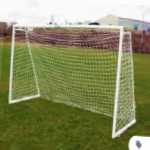goals: (8, 22, 138, 139)
